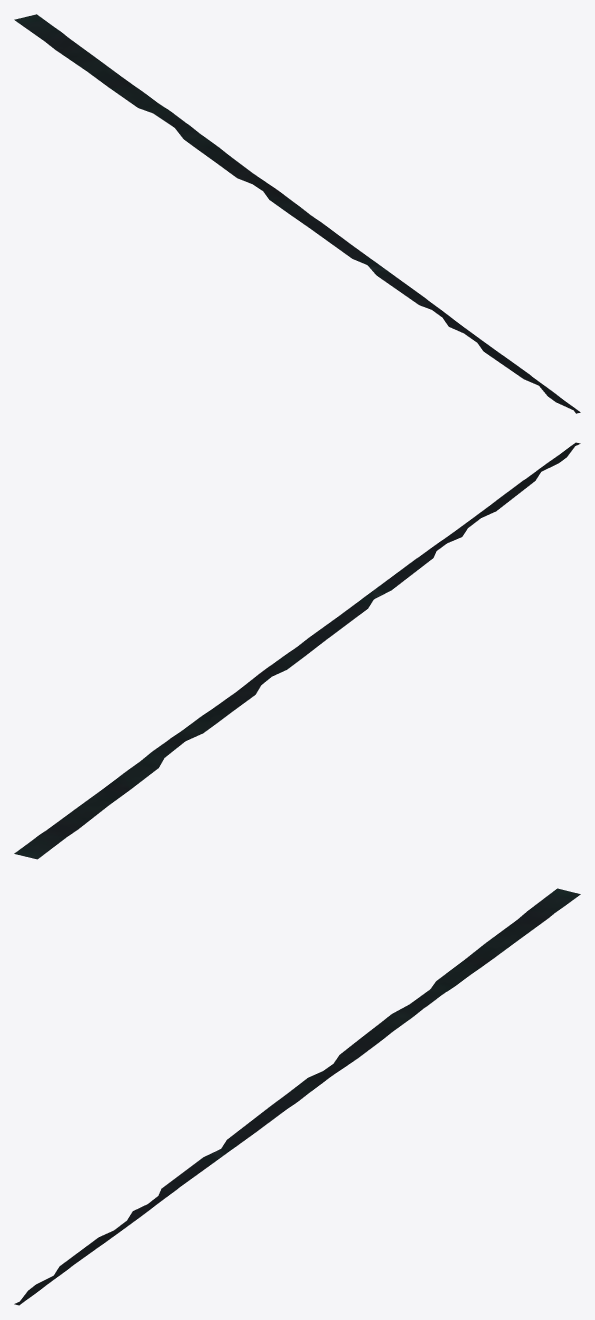
The picture shows the model from 3 angles, top to bottom: view 1: azimuth 30°, elevation 25°; view 2: azimuth 150°, elevation 25°; view 3: azimuth 330°, elevation 25°; orthographic projection. The views are drawn at different scales.
Bounding box in the file's own units: 5.06 × 0.4173 × 209.
1 material, 1 textured.
